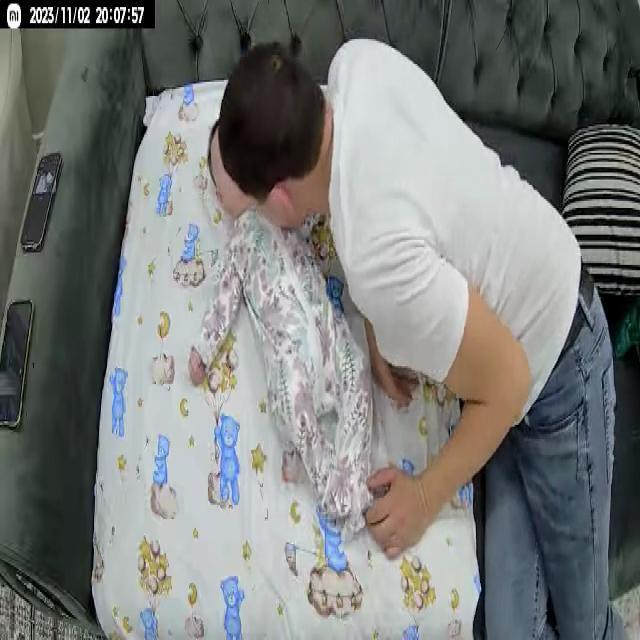baby: (186, 118, 382, 539)
